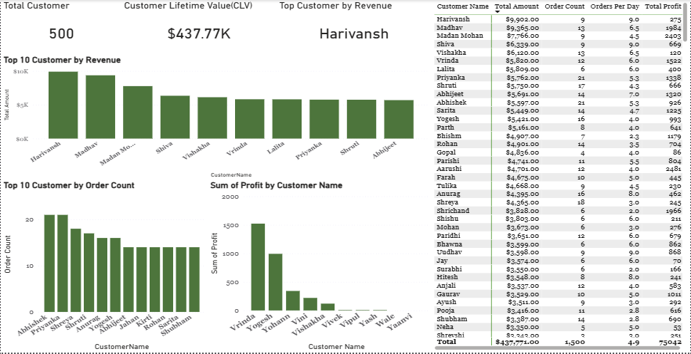

What the dashboard file says about the page in this screenshot:
{"tool":"powerbi","page":{"name":"Customer Dashboard","canvas":[1280,720],"ordinal":8},"visuals":[{"type":"card","title":"Total Customer","fields":{"Values":["Measures Table.Total Customers"]},"box":[0,0,224,112],"z":0},{"type":"card","title":"Customer Lifetime Value(CLV)","fields":{"Values":["Measures Table.Customer Lifetime Value CLV"]},"box":[224,0,288,112],"z":1000},{"type":"clusteredColumnChart","title":"Top 10 Customer by Revenue","fields":{"Category":["orderss.CustomerName"],"Y":["Measures Table.Total Amount"]},"box":[0,112,800,256],"z":2000},{"type":"clusteredColumnChart","title":"Top 10 Customer by Order Count","fields":{"Category":["orderss.CustomerName"],"Y":["Measures Table.Order Count"]},"box":[0,368,384,352],"z":3000},{"type":"card","title":"Top Customer by Revenue","fields":{"Values":["Min(orderss.CustomerName)"]},"box":[512,0,288,112],"z":4000},{"type":"clusteredColumnChart","fields":{"Category":["orderss.CustomerName"],"Y":["Sum(details.Profit)"]},"box":[384,368,416,352],"z":5000},{"type":"pivotTable","fields":{"Rows":["orderss.CustomerName"],"Values":["Measures Table.Total Amount","Measures Table.Order Count","Measures Table.Orders Per Day","Sum(details.Profit)"]},"box":[800,0,480,720],"z":6000}]}

Visuals, with their boxes on the page's 1280x720 design canvas (x1, y1, x2, y2). These are canvas units, not pixel positions in the 691x354 screenshot, which may show the page scaled, cropped or inside an application window:
"Total Customer" card: {"x1": 0, "y1": 0, "x2": 224, "y2": 112}
"Customer Lifetime Value(CLV)" card: {"x1": 224, "y1": 0, "x2": 512, "y2": 112}
"Top 10 Customer by Revenue" clusteredColumnChart: {"x1": 0, "y1": 112, "x2": 800, "y2": 368}
"Top 10 Customer by Order Count" clusteredColumnChart: {"x1": 0, "y1": 368, "x2": 384, "y2": 720}
"Top Customer by Revenue" card: {"x1": 512, "y1": 0, "x2": 800, "y2": 112}
clusteredColumnChart - orderss.CustomerName x Sum(details.Profit): {"x1": 384, "y1": 368, "x2": 800, "y2": 720}
pivotTable - orderss.CustomerName x Measures Table.Total Amount: {"x1": 800, "y1": 0, "x2": 1280, "y2": 720}
